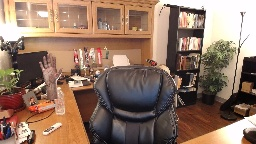Mano_aperta: (36, 52, 63, 84)
